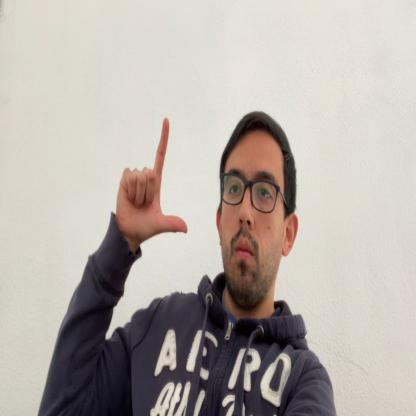L: (116, 115, 188, 239)
